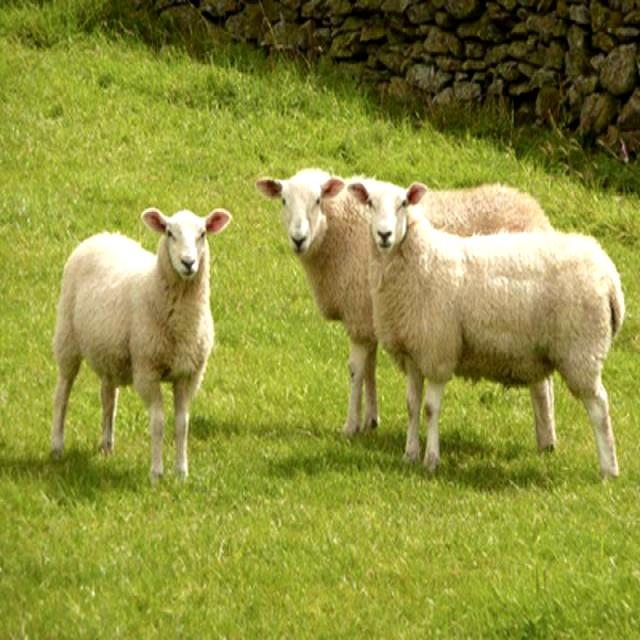sheep: (345, 179, 624, 475), (50, 209, 231, 478), (255, 168, 381, 436)
